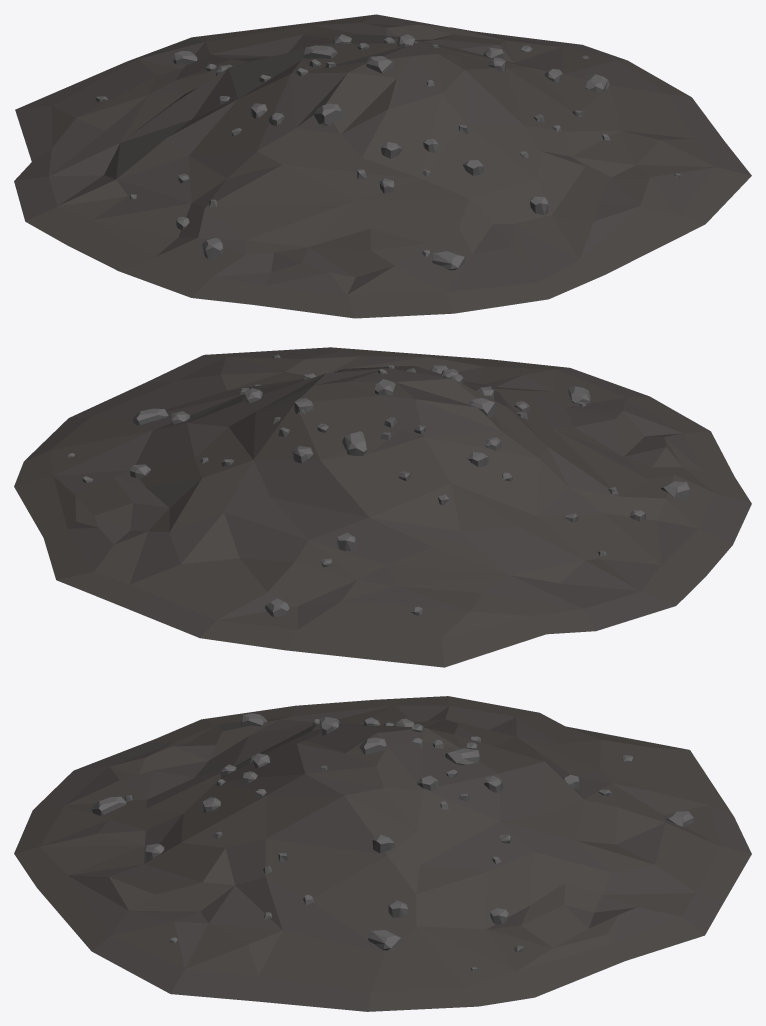
The model's file is res_ore_pile.gltf.
3 views of the same model, one above another, from view 1: azimuth 30°, elevation 25°; view 2: azimuth 150°, elevation 25°; view 3: azimuth 270°, elevation 25° (orthographic). The views are drawn at different scales.
Parts seen in each view (by area): view 1: res_ore_pile; view 2: res_ore_pile; view 3: res_ore_pile.
Part boxes in pixels (box(x1,y1,x2,y2)): res_ore_pile: box(14, 14, 751, 318); res_ore_pile: box(14, 347, 751, 667); res_ore_pile: box(14, 696, 751, 1011).
Bounding box in the file's own units: 5.37 × 0.9172 × 5.31.
1 material, 1 textured.
